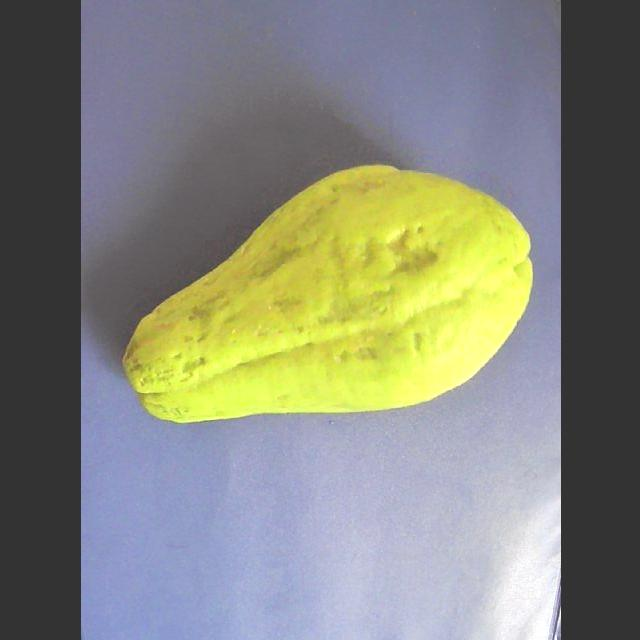chayote: (123, 165, 532, 422)
